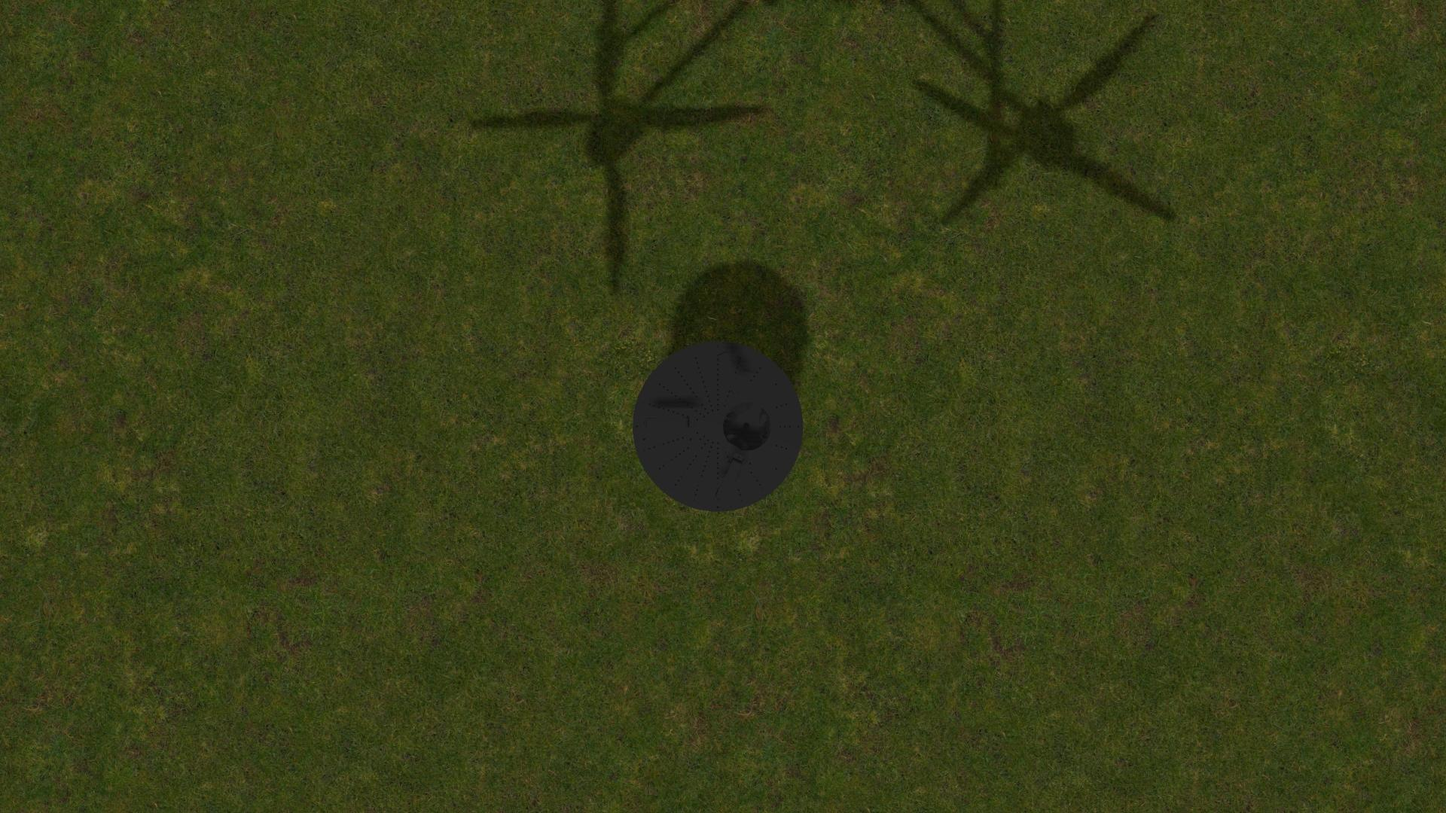alca: (712, 452, 744, 504), (715, 347, 744, 398), (641, 417, 695, 430)
armadilha: (633, 341, 803, 512)
